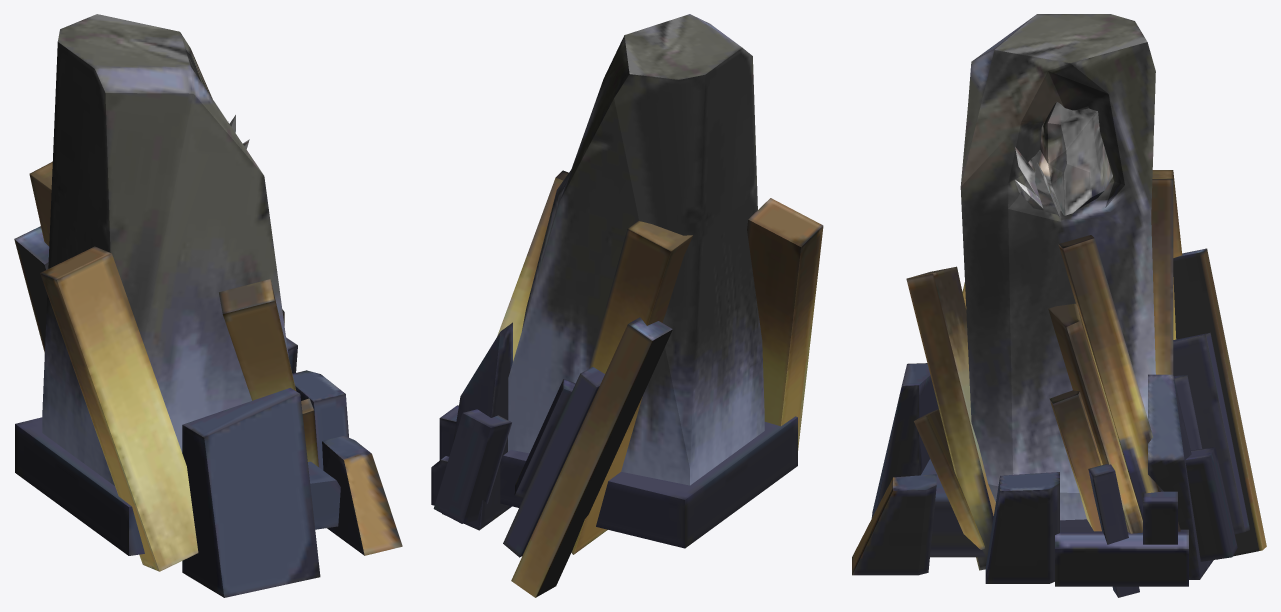
File: trap_460_xbdiam.fbx
The picture shows the model from 3 angles, left to right: view 1: azimuth 30°, elevation 25°; view 2: azimuth 150°, elevation 25°; view 3: azimuth 270°, elevation 25°; orthographic projection.
Visible parts, largest first — view 1: trap_460_xbdiam; view 2: trap_460_xbdiam; view 3: trap_460_xbdiam.
Part boxes in pixels (x1=…): trap_460_xbdiam: x1=14, y1=14, x2=402, y2=597; trap_460_xbdiam: x1=431, y1=14, x2=823, y2=597; trap_460_xbdiam: x1=852, y1=14, x2=1266, y2=597.
Bounding box in the file's own units: 0.7841 × 1.26 × 0.9585.
Materials: 1 (1 with a texture image).
